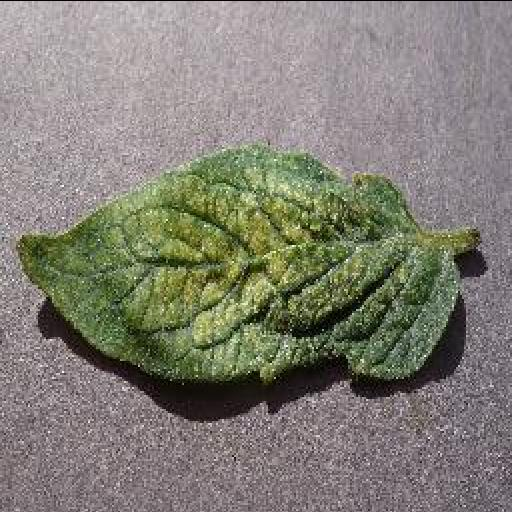disease_tomato: (10, 146, 458, 384)
